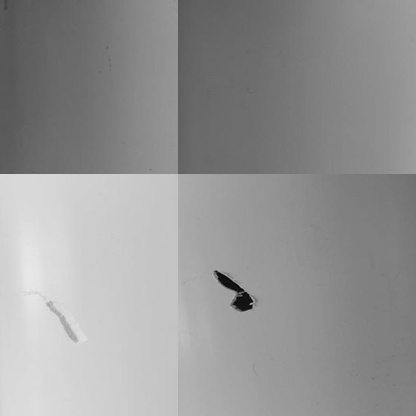kongdong: (210, 267, 257, 316)
sunshang: (29, 288, 87, 345)
